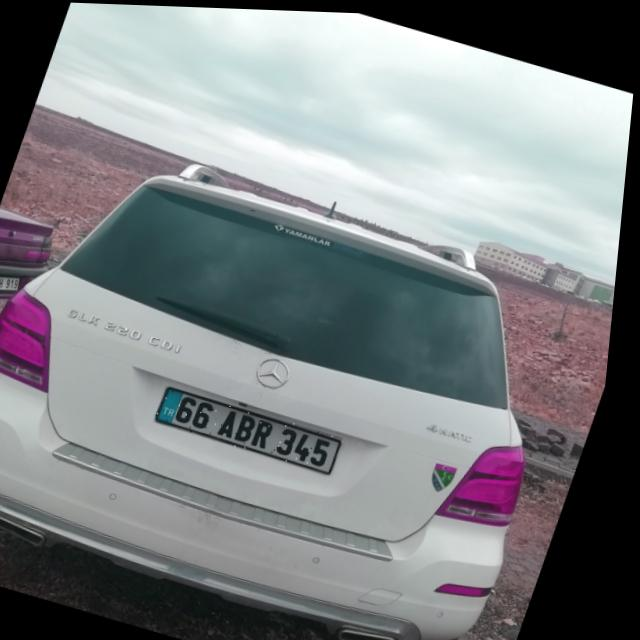license_plate: (157, 384, 354, 471)
